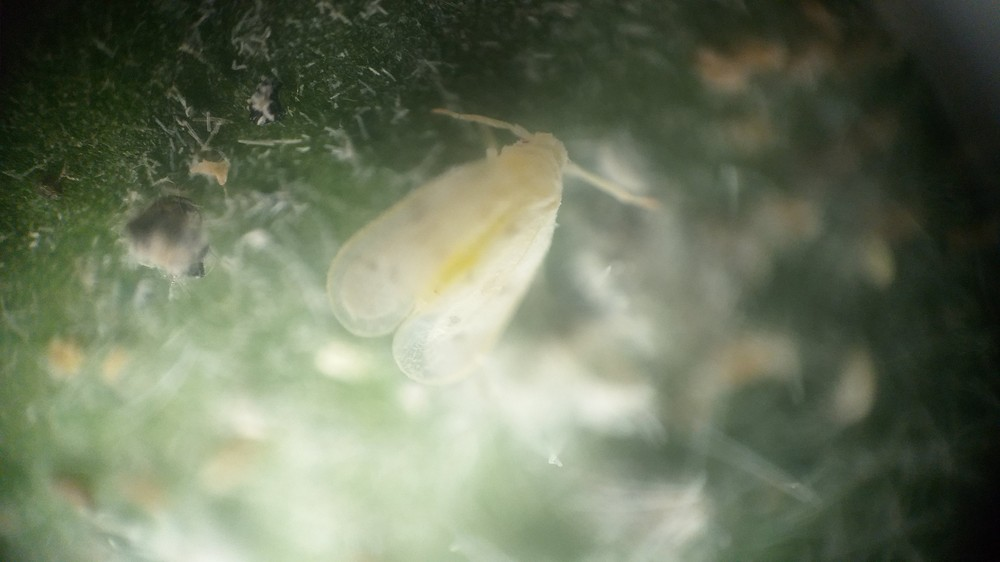Mosca Blanca: (319, 97, 673, 398)
